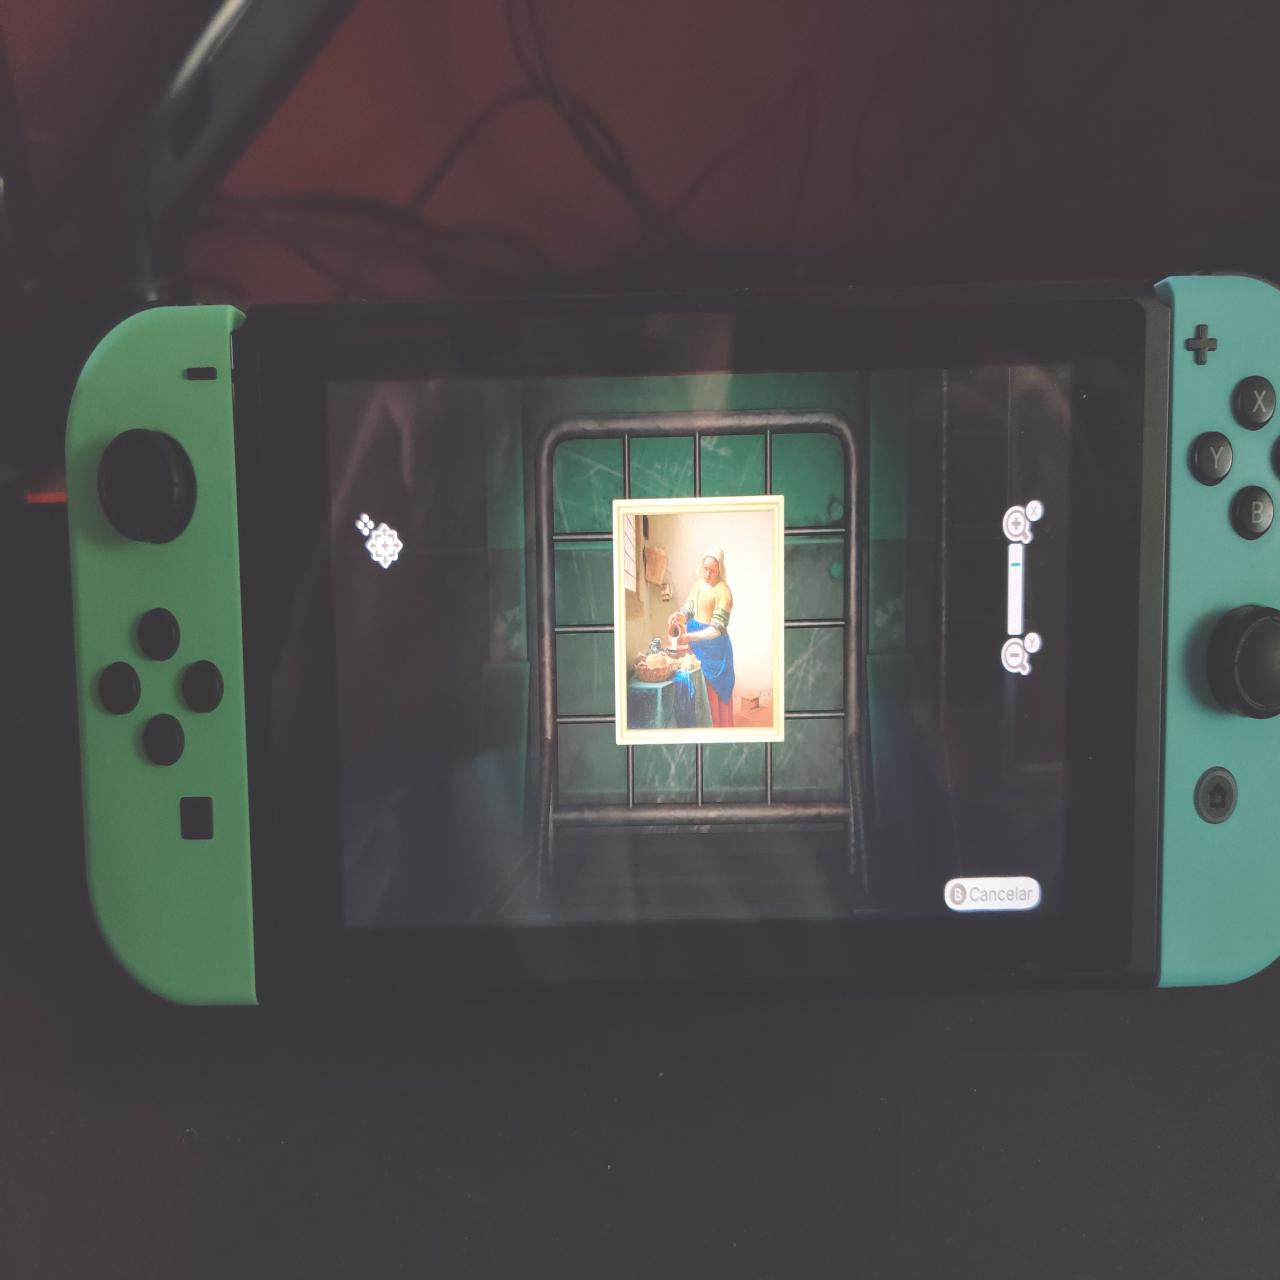MilkmaidFake: (622, 515, 777, 728)
